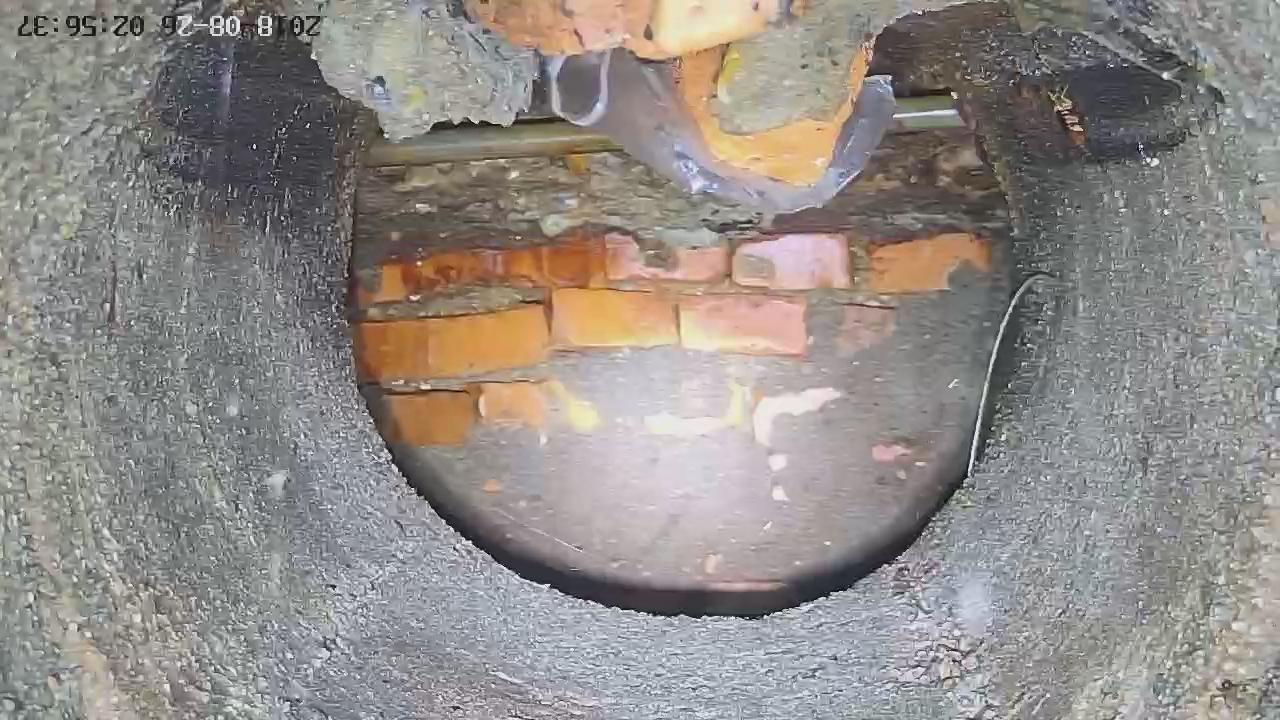CQBG: (349, 121, 1009, 615)
YWCR: (373, 120, 618, 165), (894, 96, 962, 132)
